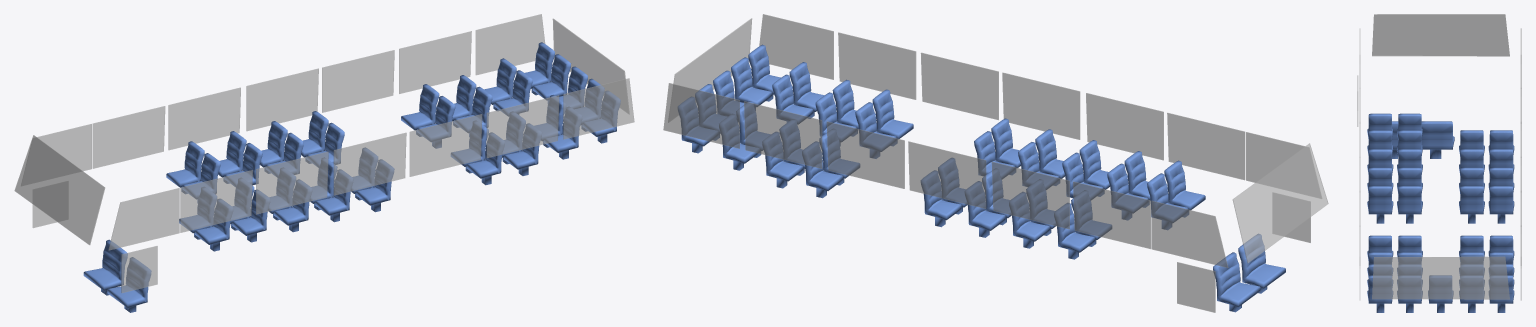
Rendered from glass_sit.fbx.
The picture shows the model from 3 angles, left to right: view 1: azimuth 30°, elevation 25°; view 2: azimuth 150°, elevation 25°; view 3: azimuth 270°, elevation 25°; orthographic projection. The views are drawn at different scales.
Visible parts, largest first — view 1: glass_01, glass_09, glass_11, glass_10, glass_14, glass_07, glass_17, glass_08, glass_15, glass_16, glass_18, glass_12 (+25 smaller); view 2: glass_01, glass_14, glass_18, glass_16, glass_07, glass_17, glass_15, glass_11, glass_10, glass_09, glass_08, glass_19 (+25 smaller); view 3: glass_05, glass_01, new_sit014, new_sit005, new_sit009, new_sit018, new_sit019, new_sit011, new_sit002, new_sit013, new_sit012, new_sit004 (+11 smaller).
Boxes of the visible parts, x1,y1,x2,y2 form: glass_01: (14, 135, 104, 244); glass_09: (333, 132, 406, 195); glass_11: (486, 95, 559, 157); glass_10: (409, 114, 482, 176); glass_14: (92, 106, 165, 168); glass_07: (180, 170, 252, 232); glass_17: (322, 50, 394, 112); glass_08: (256, 151, 328, 214); glass_15: (168, 87, 240, 150); glass_16: (246, 68, 318, 131); glass_18: (399, 31, 471, 93); glass_12: (563, 78, 634, 139); glass_01: (1232, 143, 1328, 262); glass_14: (1073, 181, 1151, 248); glass_18: (744, 101, 822, 168); glass_16: (908, 141, 986, 208); glass_07: (1167, 113, 1245, 180); glass_17: (826, 121, 904, 188); glass_15: (991, 161, 1069, 229); glass_11: (838, 32, 916, 99); glass_10: (921, 52, 998, 119); glass_09: (1002, 72, 1080, 139); glass_08: (1086, 93, 1163, 160); glass_19: (663, 83, 739, 148); glass_05: (1372, 256, 1509, 299); glass_01: (1372, 14, 1509, 56); new_sit014: (1459, 186, 1514, 223); new_sit005: (1367, 186, 1422, 223); new_sit009: (1367, 275, 1422, 312); new_sit018: (1459, 275, 1514, 312); new_sit019: (1392, 121, 1454, 158); new_sit011: (1459, 130, 1514, 156); new_sit002: (1367, 130, 1422, 156); new_sit013: (1459, 167, 1514, 193); new_sit012: (1459, 149, 1514, 175); new_sit004: (1367, 167, 1422, 193).
Bounding box in the file's own units: 4545 × 1115 × 1300.
